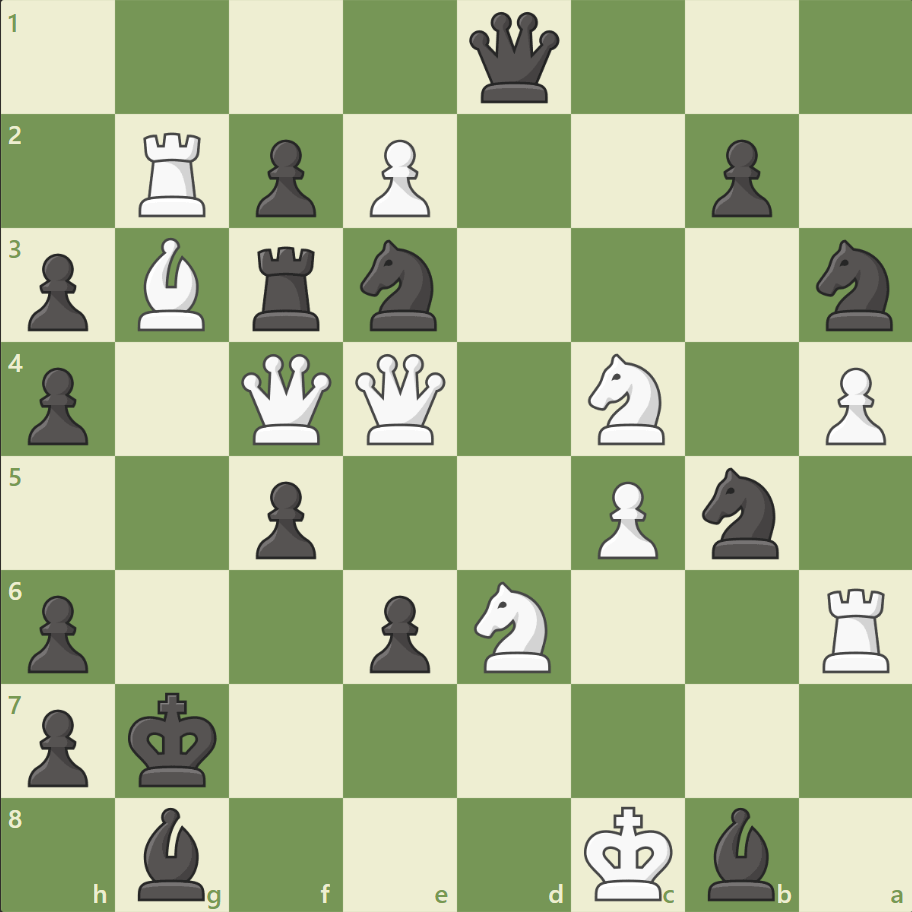B: (131, 233, 215, 336)
K: (579, 798, 679, 906)
N: (465, 575, 562, 677), (579, 348, 676, 450)
P: (588, 473, 662, 564), (815, 359, 889, 450), (361, 132, 435, 223)
Q: (351, 349, 450, 449), (237, 349, 336, 449)
R: (814, 579, 897, 676), (133, 125, 215, 222)
b: (698, 801, 782, 904), (131, 801, 215, 904)
k: (124, 685, 224, 793)
n: (351, 234, 449, 337), (692, 461, 789, 564), (806, 234, 903, 337)
p: (20, 700, 95, 791), (20, 586, 95, 677), (247, 473, 322, 564), (20, 359, 95, 450), (20, 246, 95, 337), (701, 132, 776, 223), (247, 132, 322, 223), (361, 586, 435, 677)
q: (464, 9, 563, 108)
r: (246, 239, 329, 336)
